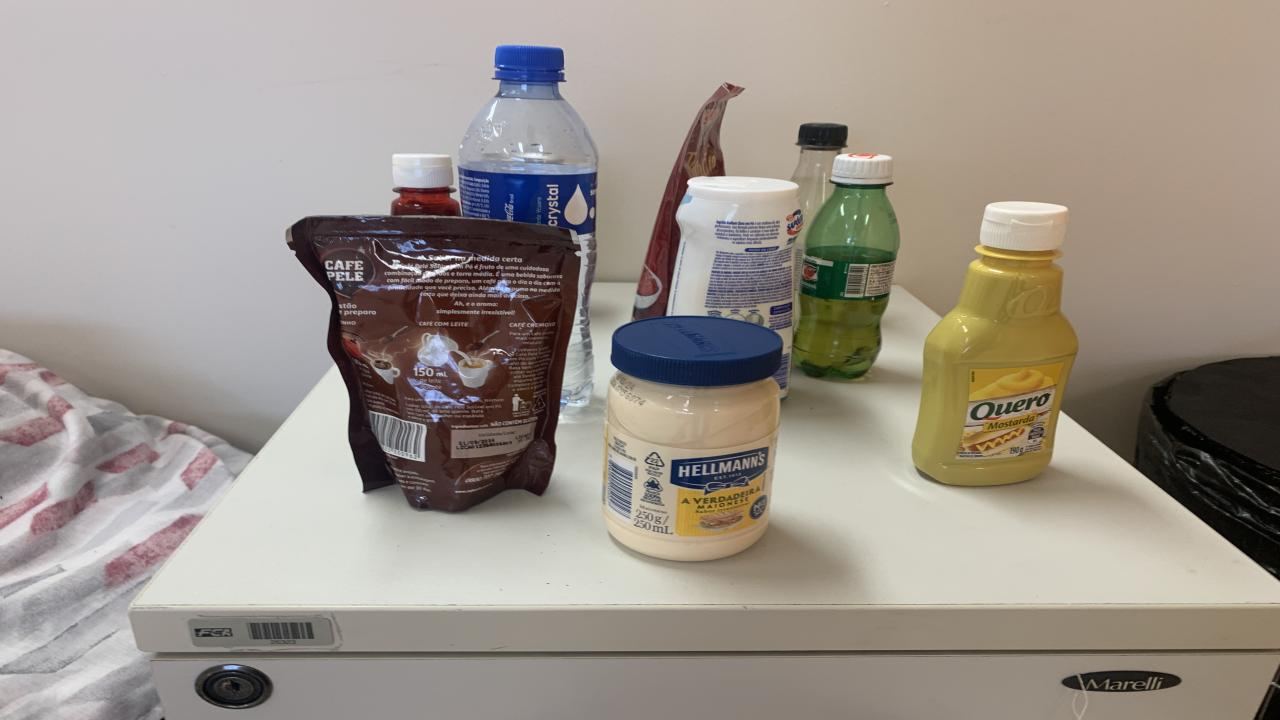Cleaner-Cleanup_Items: (668, 176, 802, 398)
Guarana-Drinks: (792, 154, 900, 379)
Ketchup-Pantry_Items: (390, 154, 460, 216)
Mayonnaise-Pantry_Items: (602, 315, 782, 561)
Mustard-Pantry_Items: (912, 202, 1078, 486)
Soda-Drinks: (790, 122, 848, 291)
Tomato_Sauce-Pantry_Items: (288, 216, 580, 512), (632, 82, 742, 319)
Water_Bottle-Drinks: (458, 47, 598, 407)
